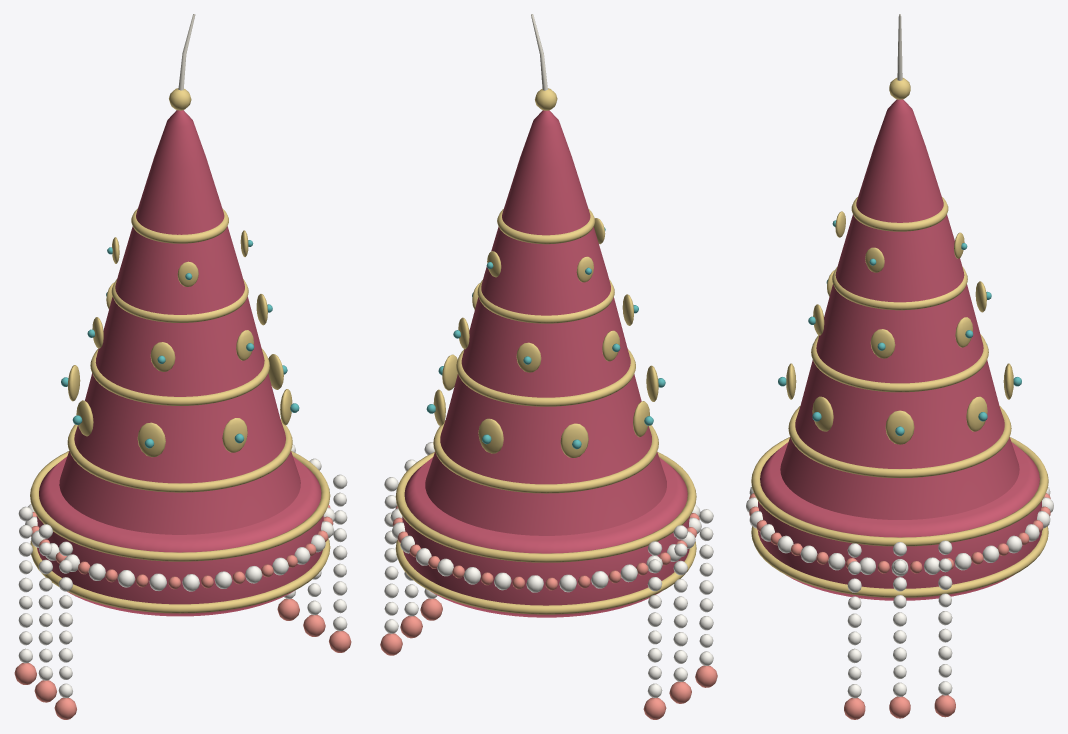
The model's file is saukele.glb.
3 renders of one model, left to right at view 1: azimuth 30°, elevation 25°; view 2: azimuth 150°, elevation 25°; view 3: azimuth 270°, elevation 25°, orthographic.
Parts seen in each view (by area): view 1: cone, base, band (×6), pendants, plates, pearls, drops, corals, stones; view 2: cone, base, band (×6), pendants, plates, pearls, drops, corals, stones; view 3: cone, base, band (×6), plates, pendants, pearls, corals, drops, stones.
Part boxes in pixels (box(x1,y1,x2,y2)): cone: box(59, 110, 300, 534); base: box(36, 456, 323, 616); band (×6): box(30, 208, 330, 613); pendants: box(18, 444, 347, 698); plates: box(68, 230, 292, 457); pearls: box(25, 503, 335, 591); drops: box(14, 598, 351, 719); corals: box(31, 505, 333, 589); stones: box(61, 240, 299, 448); cone: box(425, 110, 666, 535); base: box(402, 457, 689, 617); band (×6): box(395, 209, 696, 614); pendants: box(384, 442, 713, 697); plates: box(433, 218, 658, 457); pearls: box(390, 505, 701, 592); drops: box(380, 598, 717, 719); corals: box(392, 506, 699, 590); stones: box(426, 227, 665, 449); cone: box(780, 99, 1019, 519); base: box(758, 442, 1041, 600); band (×6): box(751, 197, 1048, 597); plates: box(786, 211, 1013, 444); pendants: box(847, 540, 952, 698); pearls: box(746, 487, 1053, 576); corals: box(749, 493, 1050, 573); drops: box(844, 695, 955, 719); stones: box(778, 220, 1021, 435).
Bounding box in the file's own units: 2.08 × 4.4 × 1.9.
